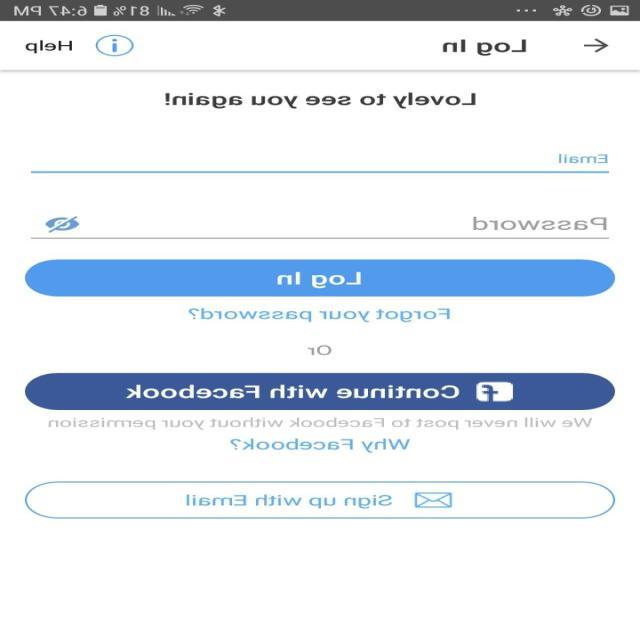EditText: (31, 215, 609, 239), (32, 154, 610, 174)
Icon: (96, 35, 135, 56), (46, 215, 80, 232), (583, 38, 609, 53)
Text: (49, 417, 592, 429), (166, 92, 476, 109), (188, 308, 450, 322), (232, 438, 412, 452), (472, 216, 606, 231), (442, 39, 528, 56), (26, 40, 74, 54), (558, 154, 608, 164), (308, 345, 332, 355)
TextButton: (25, 259, 616, 297), (25, 372, 615, 410), (25, 481, 615, 518)
